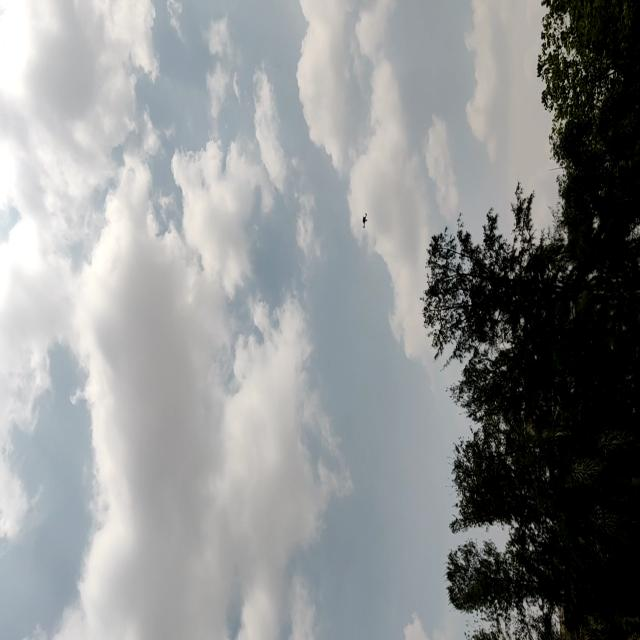drone: (360, 214, 371, 229)
